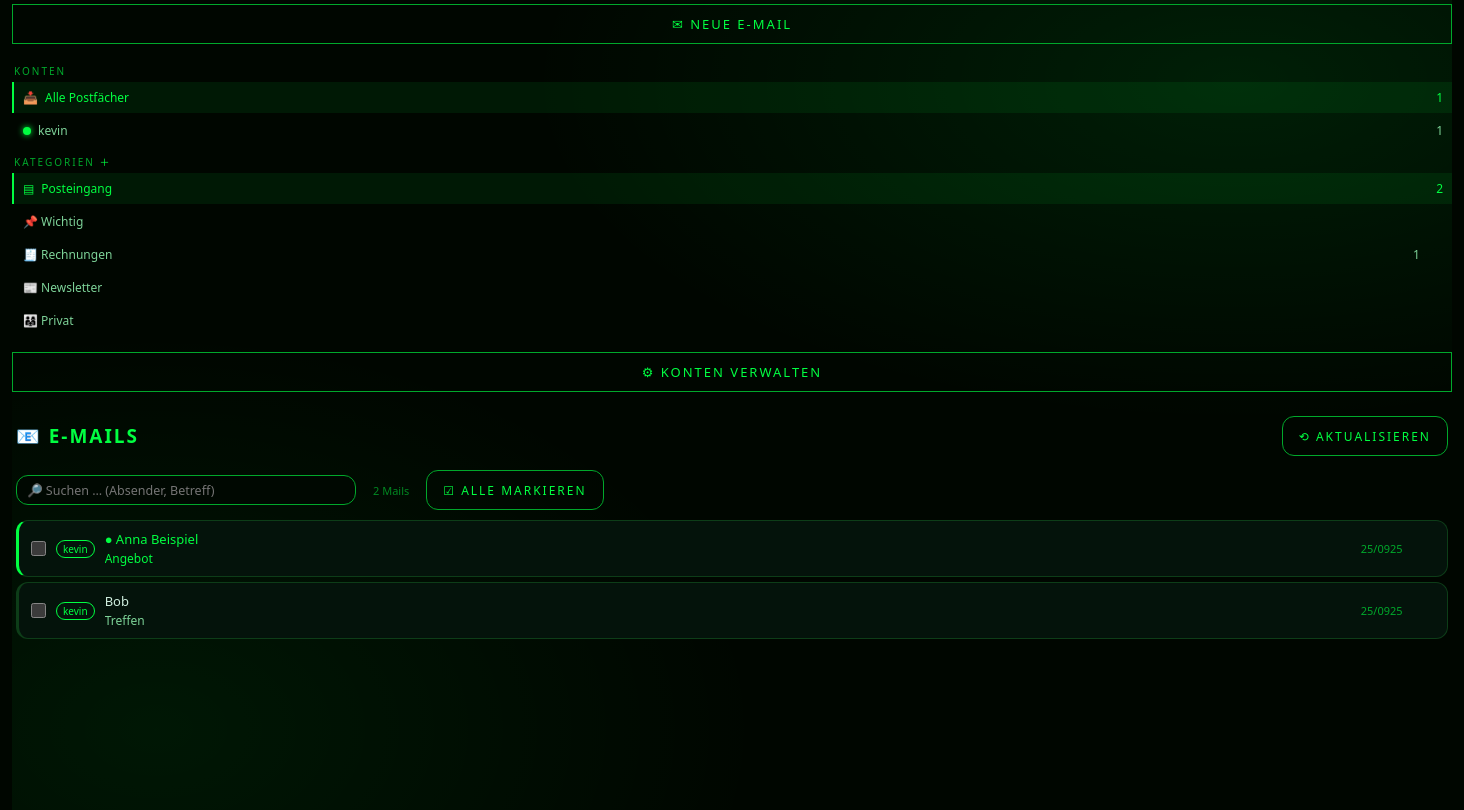
Test case: Liste › Sammel-Kategorie weist zu und hebt die Auswahl auf
This screenshot has width=1464, height=810.
Click the checkbox named "markieren" in the row of "Bob" at {"x": 38, "y": 610}, box [31, 603, 46, 618]
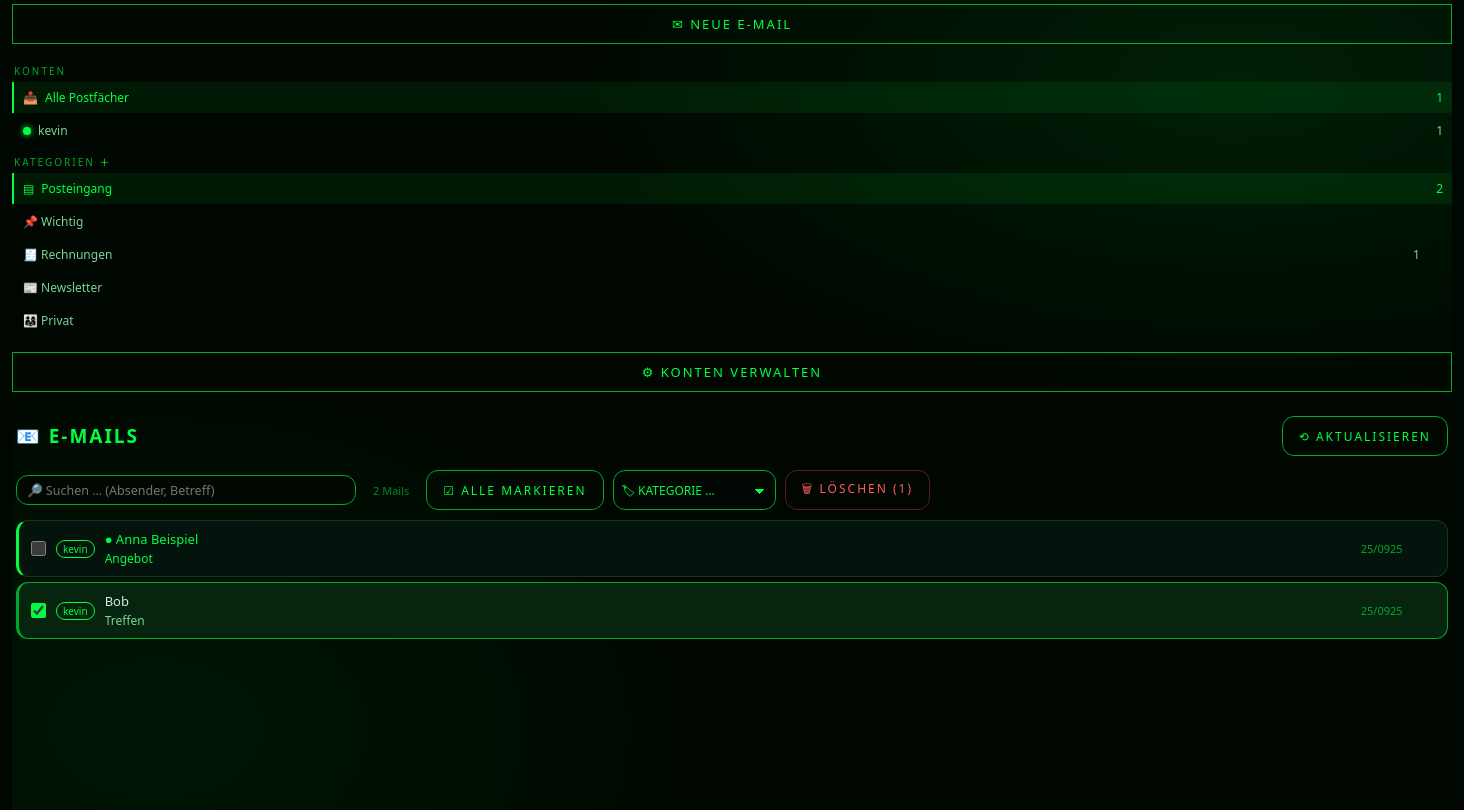
Select "📌 Wichtig" in the dropdown titled "Markierte einer Kategorie zuweisen" at {"x": 694, "y": 490}, box [613, 470, 776, 510]
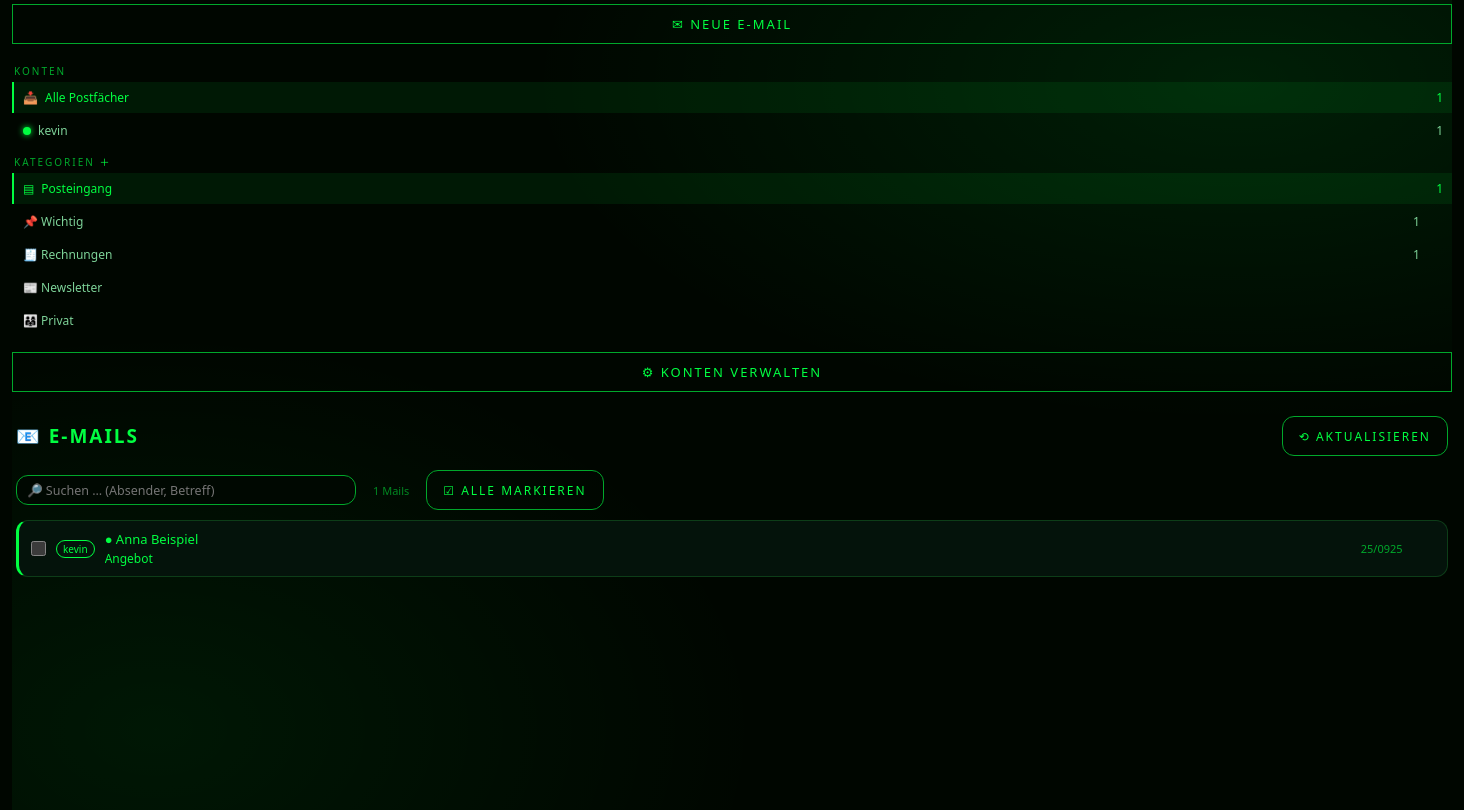
Expected: the text "Treffen" is gone
